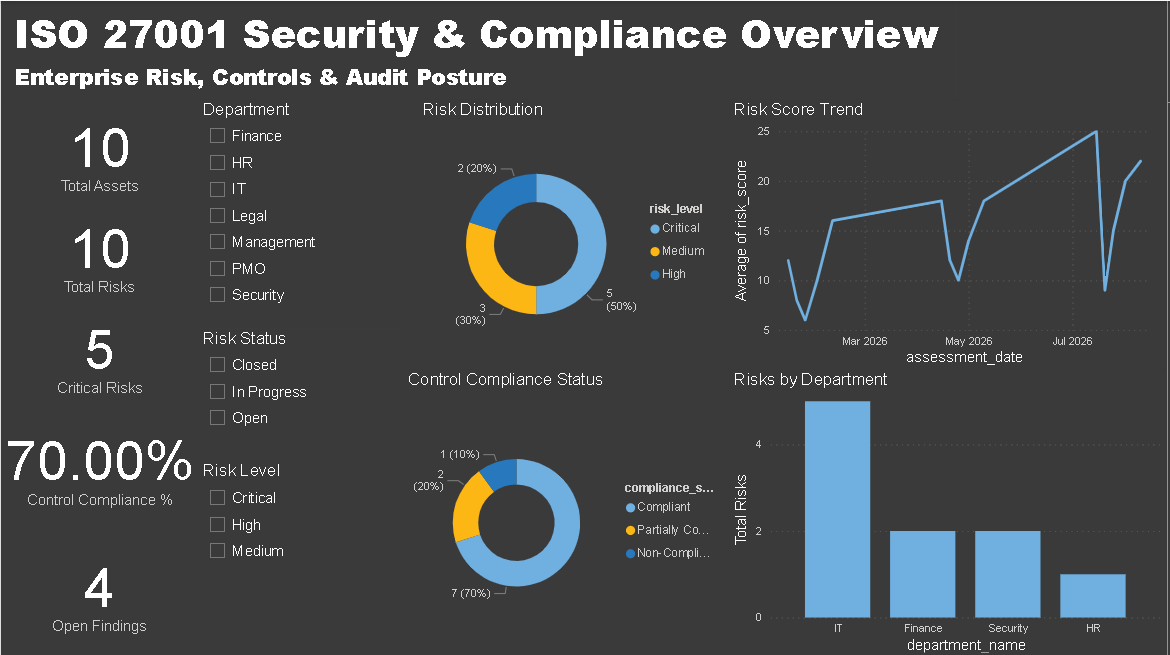

The dashboard page shown, as its layout file describes it:
{"tool":"powerbi","page":{"name":"Executive Overview","canvas":[1280,720],"ordinal":0},"visuals":[{"type":"textbox","box":[9.6,0,1038.8,108.4],"z":0},{"type":"card","fields":{"Values":["Fact_Risk_Register.Total Risks"]},"box":[0,222.3,216.8,108.4],"z":1000},{"type":"card","fields":{"Values":["Fact_Asset_Control.Control Compliance %"]},"box":[0,443.2,216.8,133.1],"z":2000},{"type":"card","fields":{"Values":["Fact_Risk_Register.Critical Risks"]},"box":[0,330.7,216.8,112.5],"z":3000},{"type":"card","fields":{"Values":["Fact_Audit_Findings.Open Findings"]},"box":[0,576.3,216.8,144.1],"z":4000},{"type":"card","fields":{"Values":["Dim_Asset.Total Assets"]},"box":[0,108.4,216.8,113.9],"z":5000},{"type":"donutChart","title":"Risk Distribution","fields":{"Category":["Fact_Risk_Register.risk_level"],"Y":["Fact_Risk_Register.Total Risks"]},"box":[458.3,108.4,334.8,296.4],"z":6000},{"type":"donutChart","title":"Control Compliance Status","fields":{"Category":["Fact_Asset_Control.compliance_status"],"Y":["Fact_Asset_Control.Total Control Assesments"]},"box":[441.9,404.8,351.3,315.6],"z":7000},{"type":"lineChart","title":"Risk Score Trend","fields":{"Category":["Fact_Risk_AssesmentHistory.assessment_date"],"Y":["Avg(Fact_Risk_AssesmentHistory.risk_score)"]},"box":[800,108.4,480.3,296.4],"z":8000},{"type":"clusteredColumnChart","title":"Risks by Department","fields":{"Category":["Dim_Department.department_name"],"Y":["Fact_Risk_Register.Total Risks"]},"box":[800,404.8,480.3,315.6],"z":9000},{"type":"slicer","title":"Risk Status","fields":{"Values":["Fact_Risk_Register.risk_status"]},"box":[216.8,359.5,225,145.5],"z":10000},{"type":"slicer","title":"Department","fields":{"Values":["Dim_Department.department_name"]},"box":[216.8,108.4,225,251.1],"z":11000},{"type":"slicer","title":"Risk Level","fields":{"Values":["Fact_Risk_Register.risk_level"]},"box":[216.8,505,225,215.4],"z":12000}]}

Visuals, with their boxes in screenshot pixels (x1, y1, x2, y2), scaled from the page's 1280x720 canvas onto the 1170x655 screenshot:
textbox: (left=9, top=0, right=958, bottom=99)
card - Fact_Risk_Register.Total Risks: (left=0, top=202, right=198, bottom=301)
card - Fact_Asset_Control.Control Compliance %: (left=0, top=403, right=198, bottom=524)
card - Fact_Risk_Register.Critical Risks: (left=0, top=301, right=198, bottom=403)
card - Fact_Audit_Findings.Open Findings: (left=0, top=524, right=198, bottom=654)
card - Dim_Asset.Total Assets: (left=0, top=99, right=198, bottom=202)
"Risk Distribution" donutChart: (left=419, top=99, right=725, bottom=368)
"Control Compliance Status" donutChart: (left=404, top=368, right=725, bottom=654)
"Risk Score Trend" lineChart: (left=731, top=99, right=1169, bottom=368)
"Risks by Department" clusteredColumnChart: (left=731, top=368, right=1169, bottom=654)
"Risk Status" slicer: (left=198, top=327, right=404, bottom=459)
"Department" slicer: (left=198, top=99, right=404, bottom=327)
"Risk Level" slicer: (left=198, top=459, right=404, bottom=654)
